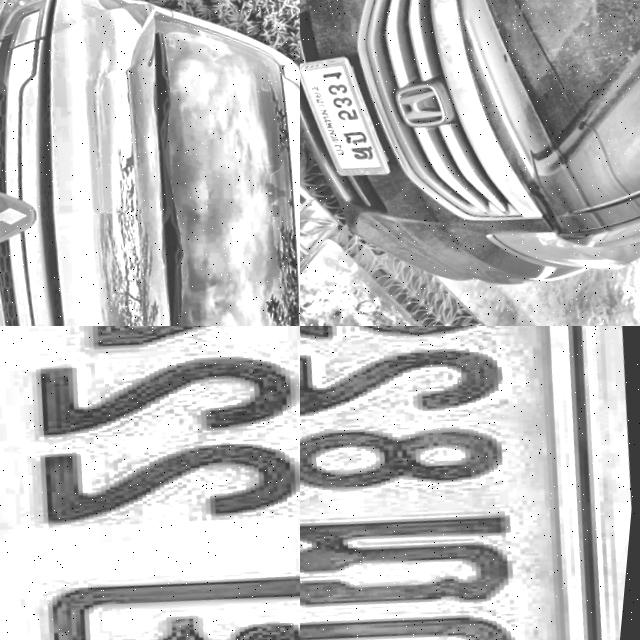license-plate: (300, 326, 640, 640), (0, 326, 300, 640), (300, 41, 412, 181)
